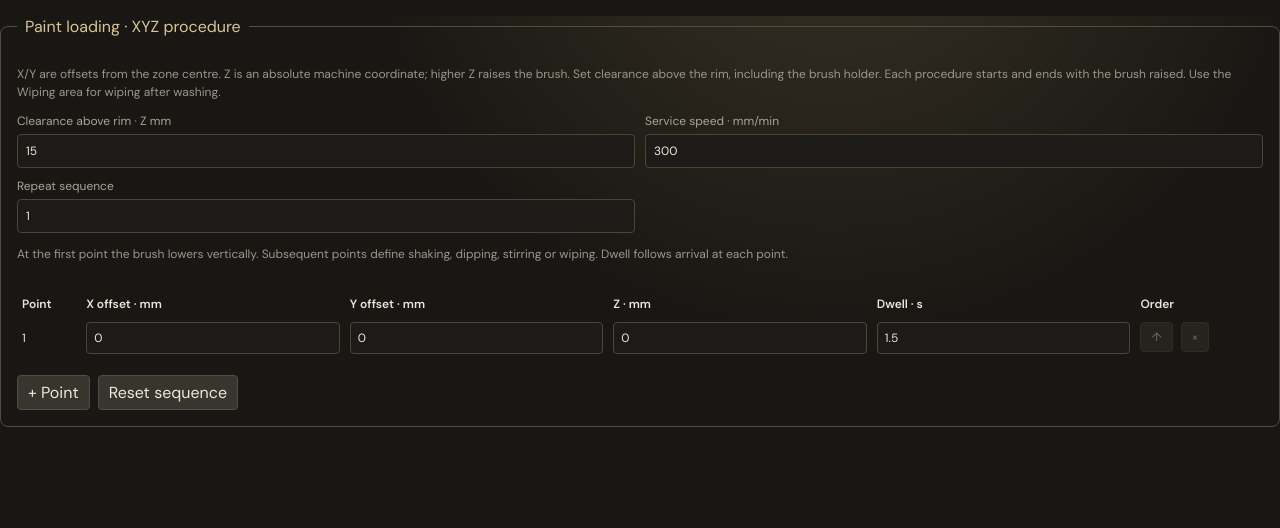
service editor changes dipping and dwell points, reorders them and flags unsafe clearance
The image size is (1280, 528).
Replace the text in the number field named "Point 1 z" with "-4" at (740, 338), box [613,322,867,354]
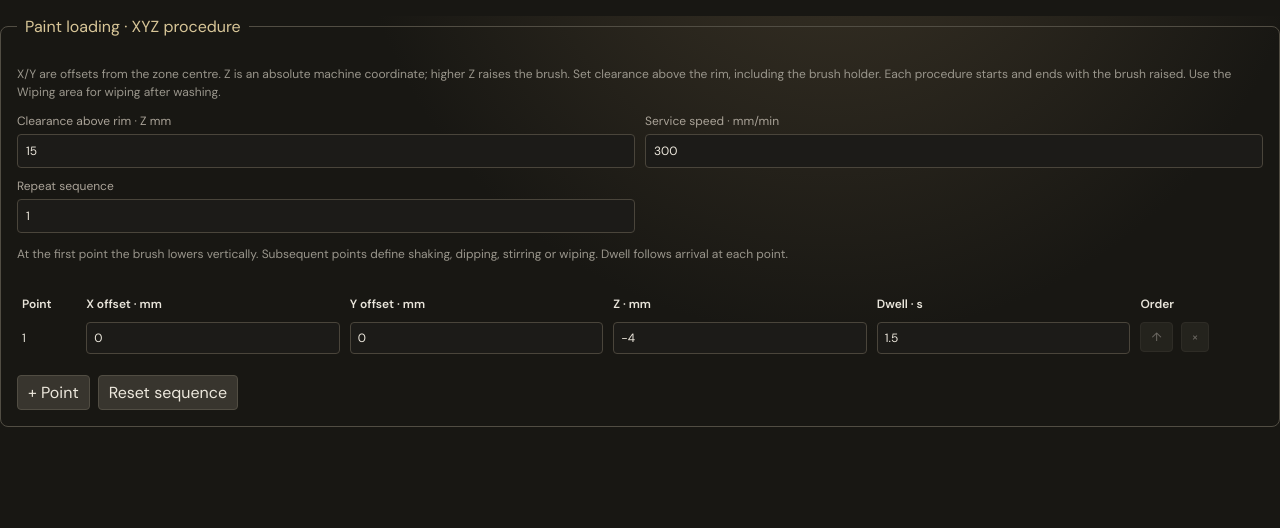
Replace the text in the number field named "Point 1 seconds" with "2" at (1004, 338), box [877,322,1130,354]
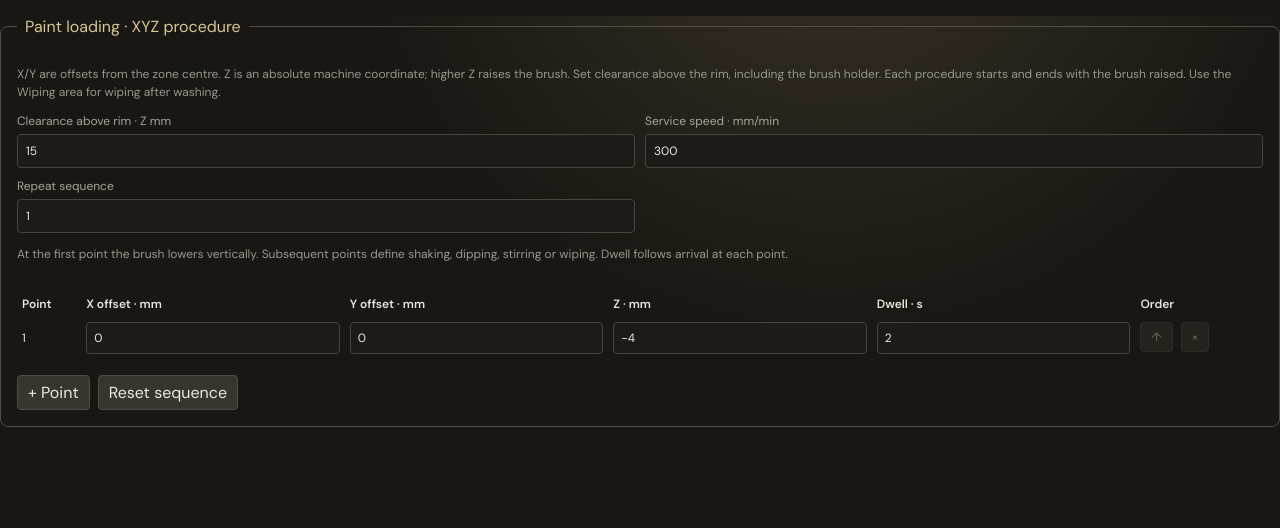
Click the button "+ Point" at (53, 392), box [17,375,90,410]
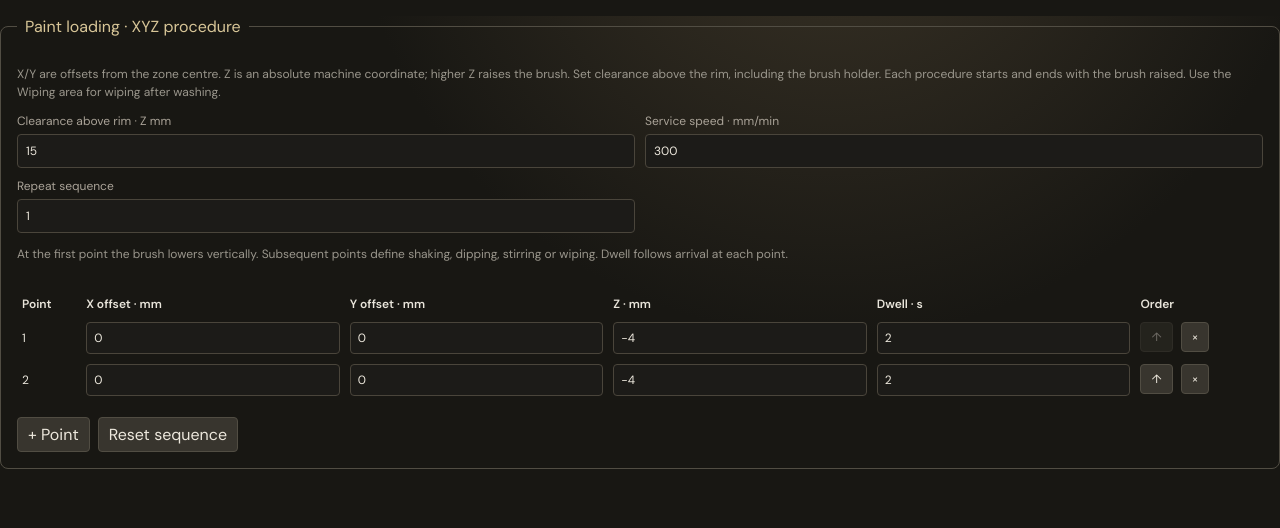
Expected: the number field named "Point 2 z" holds "-4", [613,364,867,396]
Replace the text in the number field named "Point 2 x" with "5" at (213, 380), box [86,364,340,396]
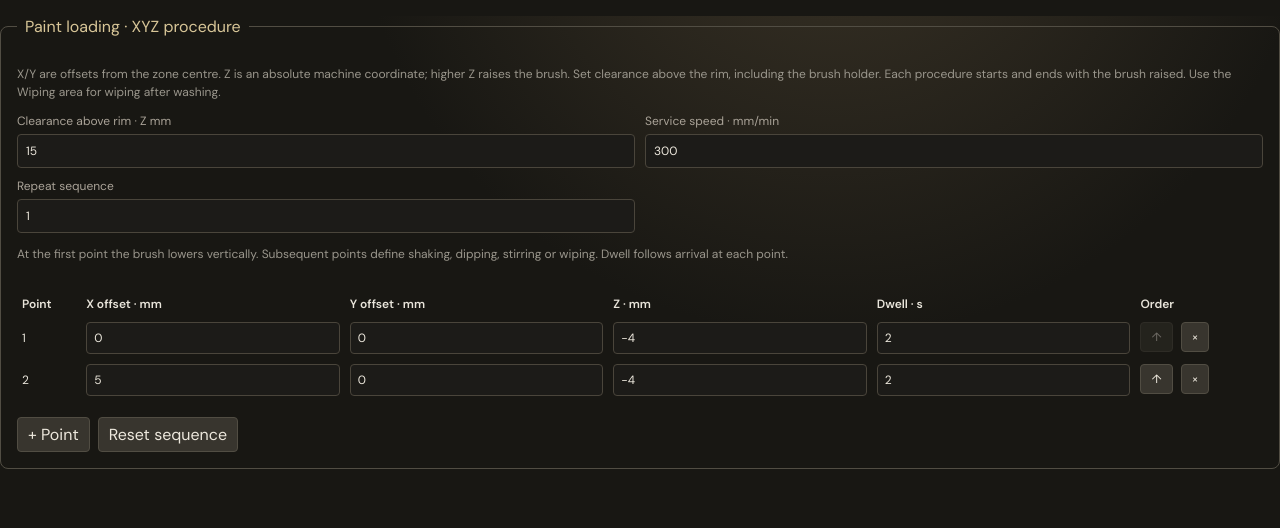
Click the button named "Move point 2 up" at (1157, 379), box [1140,364,1173,394]
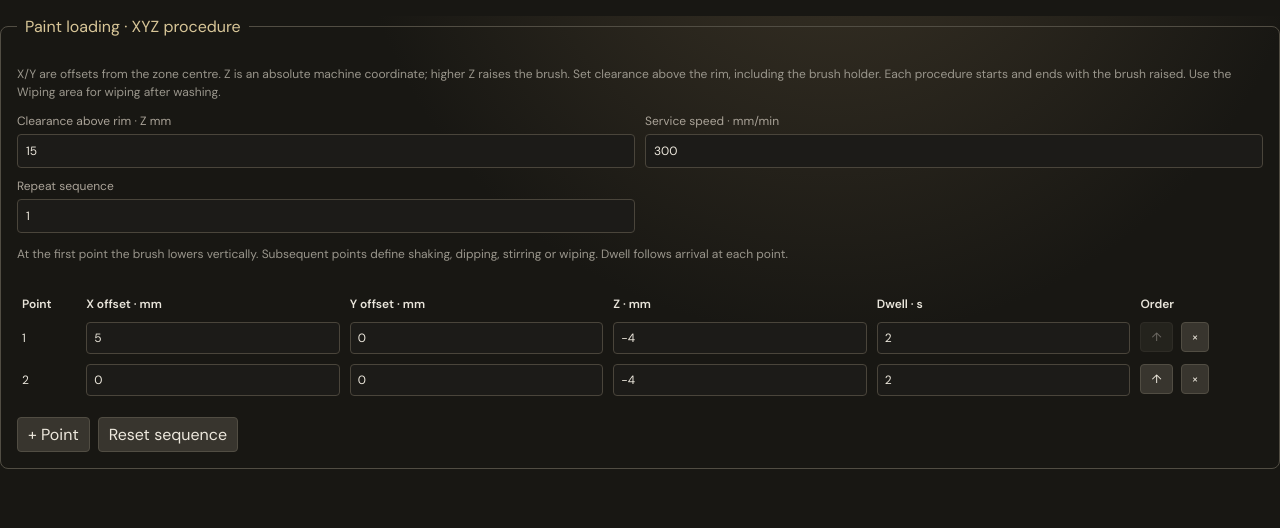
Expected: the number field named "Point 1 x" holds "5", [86,322,340,354]
Replace the text in the number field labelled "Clearance above rim · Z mm" with "-5" at (326, 151), box [17,134,635,168]
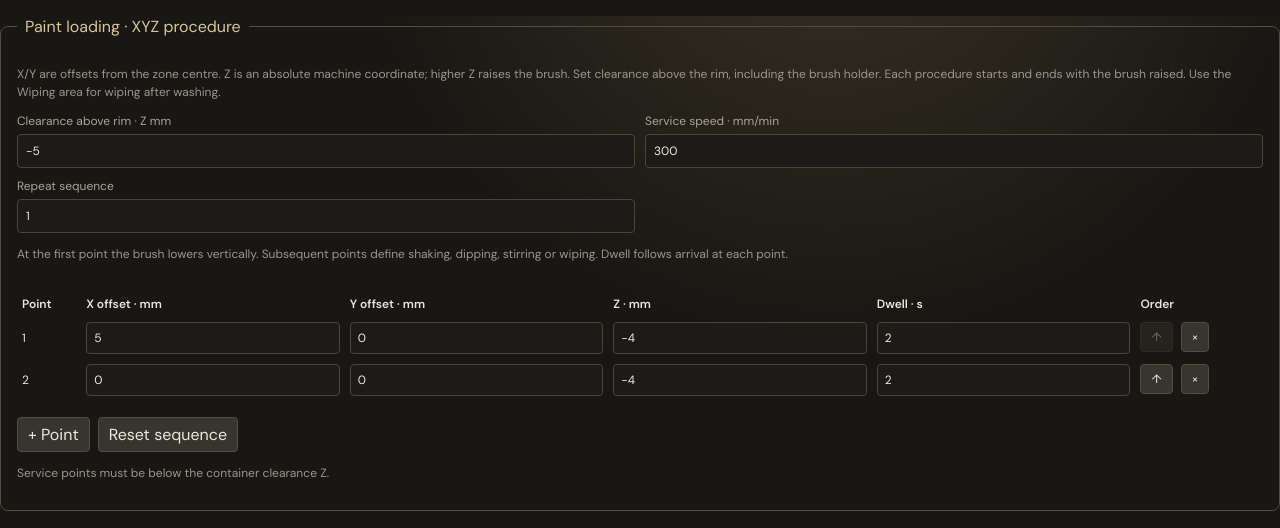
Expected: the message shows "below the container clearance", [17,465,329,481]
